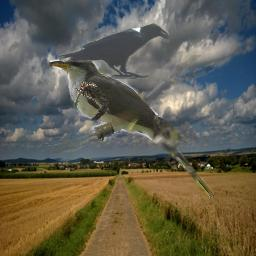Crow: (57, 22, 169, 79)
Cuckoo: (48, 55, 214, 198)
